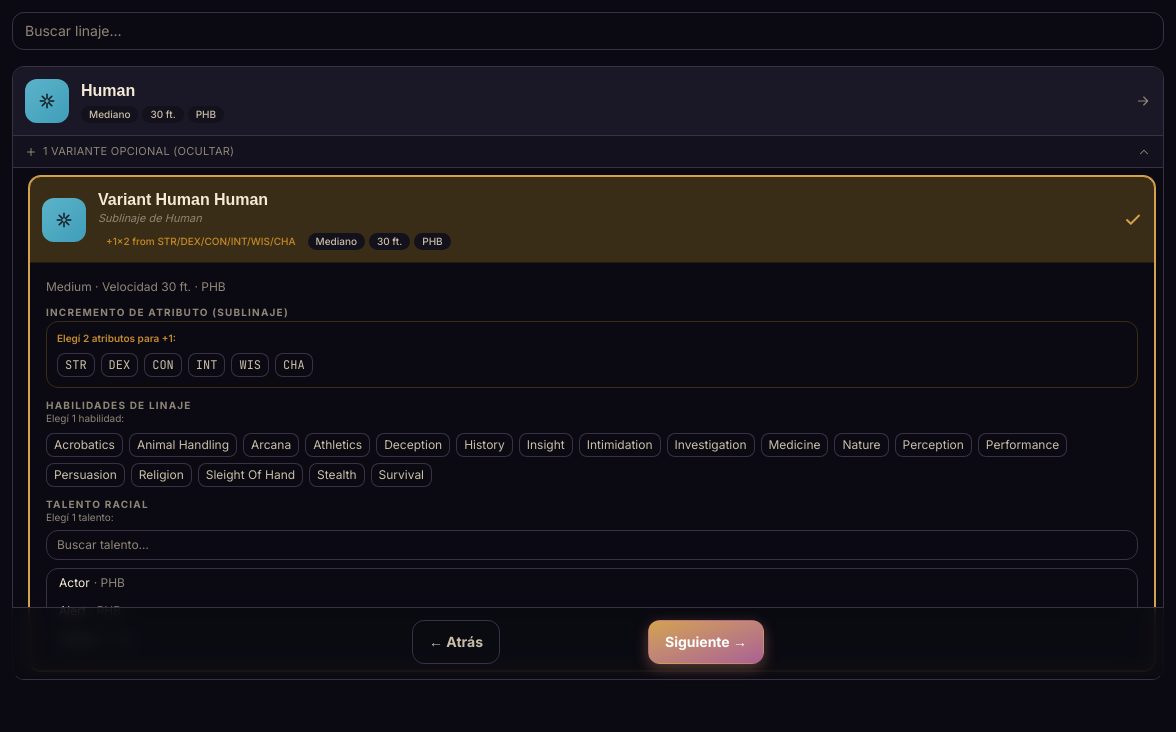
W-C2: RaceSkillPicker enforces the count (N=1 for Variant Human) › disables all other skill buttons after picking 1 skill (count=1)
Pick one skill: Perception
Click the button "Perception" at (933, 445), box [895,433,972,457]
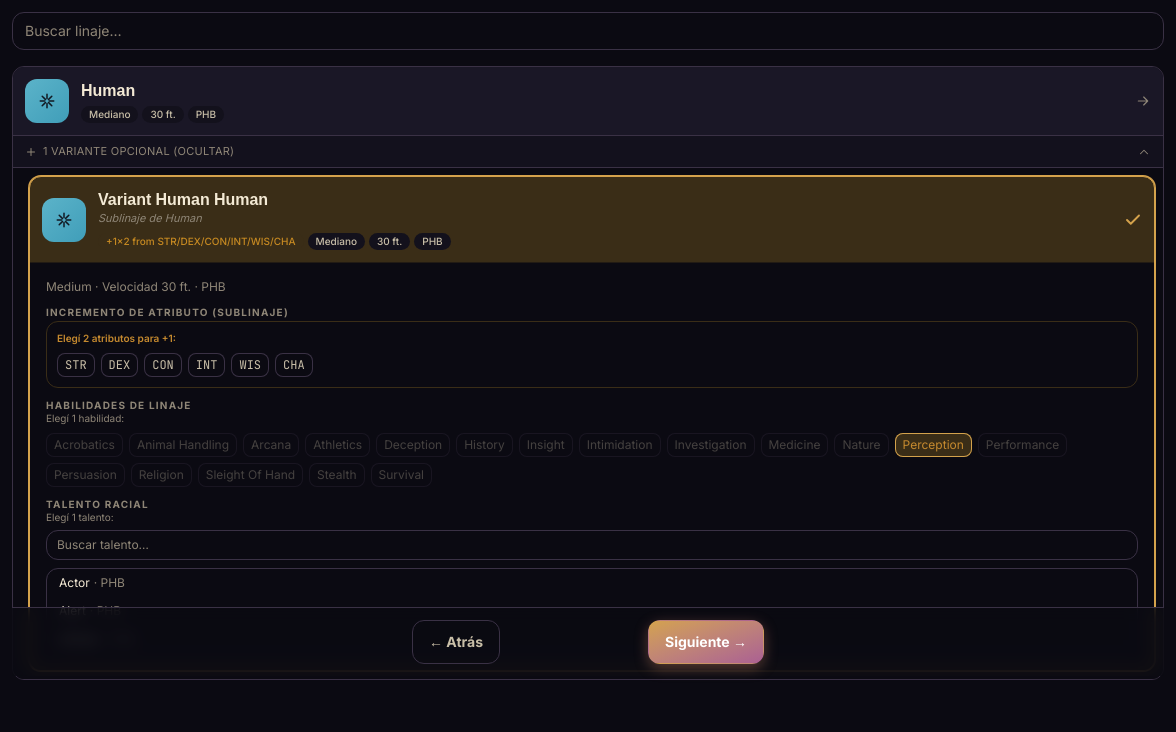
Expected: the button "Stealth" is disabled, [309,463,365,487]
